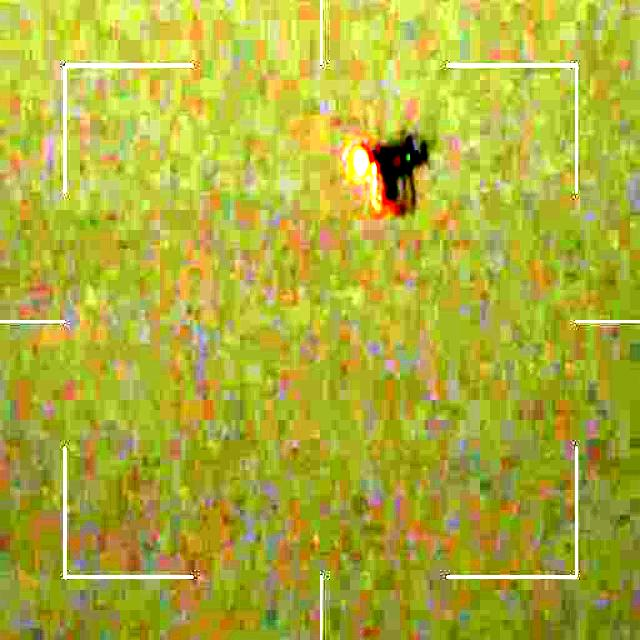bird: (342, 124, 440, 214)
